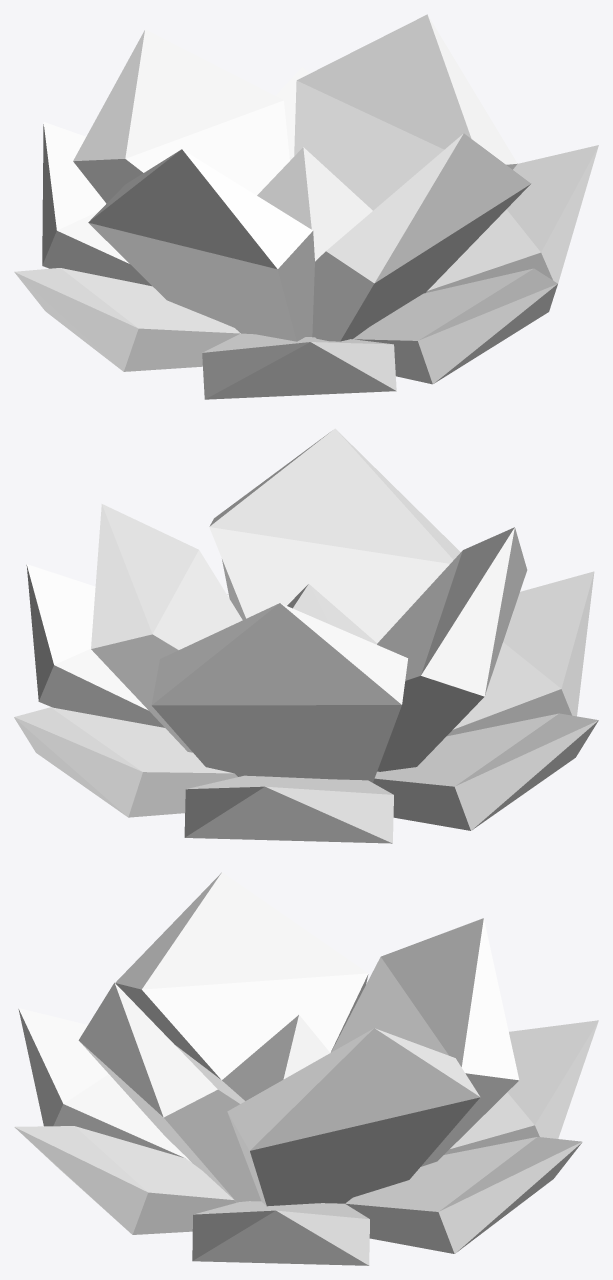
File: lotus.glb
3 views of the same model, one above another, from view 1: azimuth 30°, elevation 25°; view 2: azimuth 150°, elevation 25°; view 3: azimuth 270°, elevation 25° (orthographic). The views are drawn at different scales.
Visible parts, largest first — view 1: lotus; view 2: lotus; view 3: lotus.
Boxes of the visible parts, left/top/right/bottom form: lotus: left=14, top=14, right=598, bottom=399; lotus: left=14, top=428, right=598, bottom=843; lotus: left=14, top=872, right=598, bottom=1265.
Bounding box in the file's own units: 0.5493 × 0.2625 × 0.4929.
Materials: 1 (1 with a texture image).
